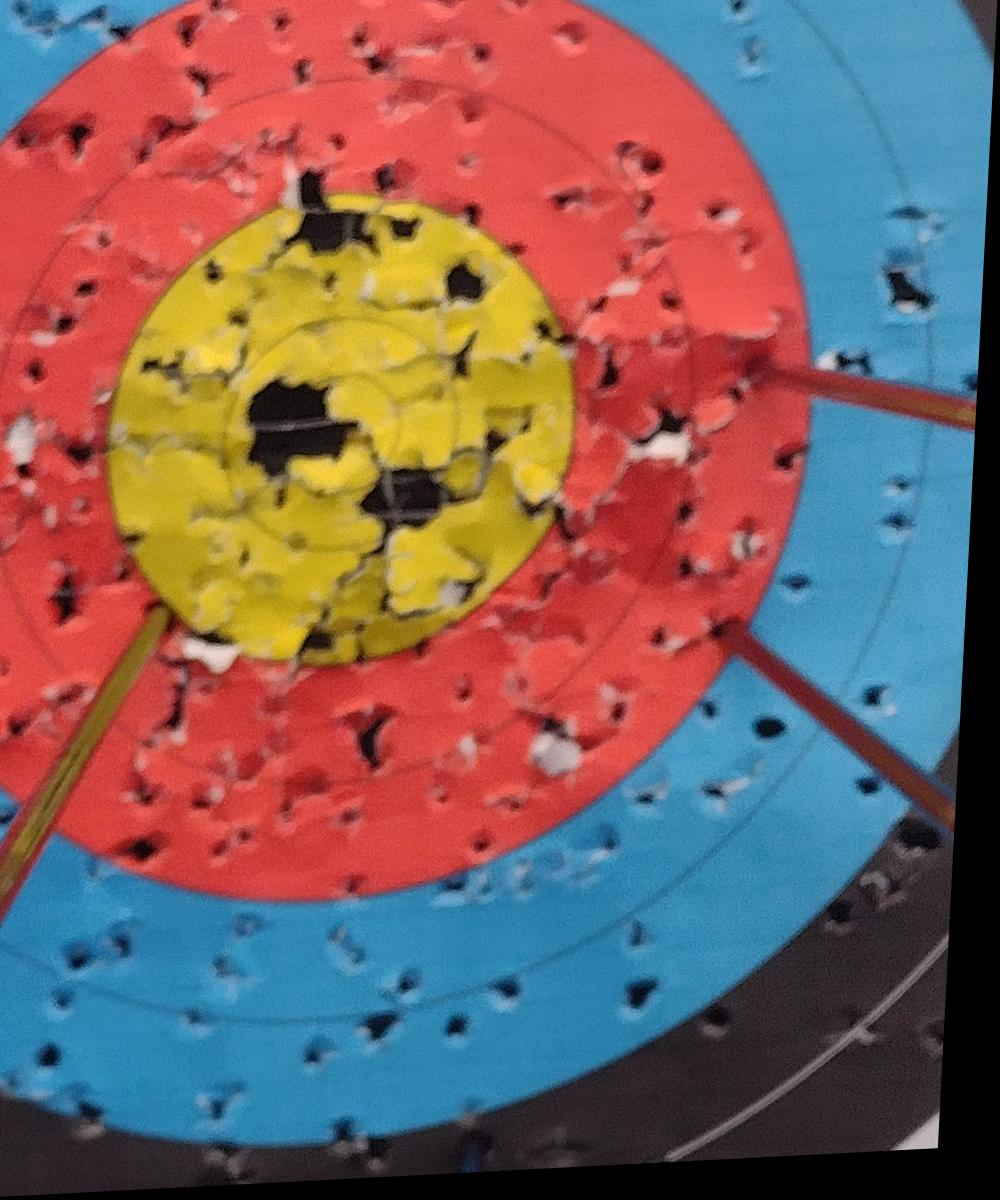10-Ring: (182, 278, 507, 600)
7-Ring: (0, 0, 813, 905)
8-Ring: (0, 87, 703, 788)
9-Ring: (17, 108, 674, 765)
Arrow: (0, 597, 181, 948)
